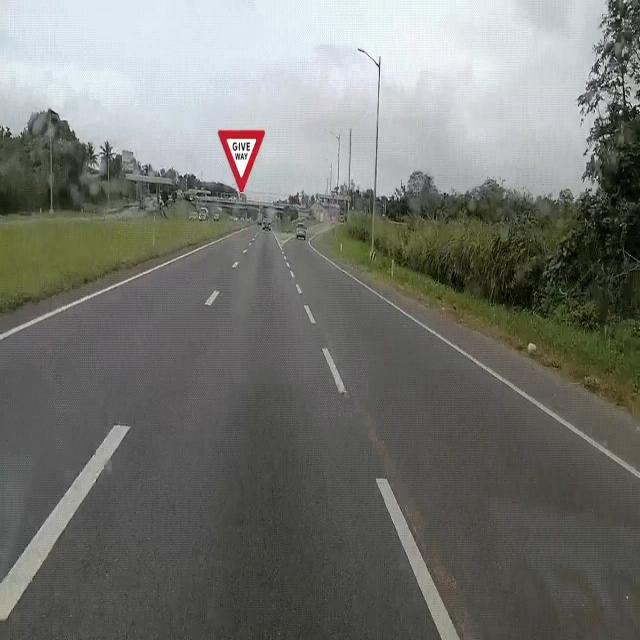Ceder-le-Passage: (213, 119, 270, 197)
